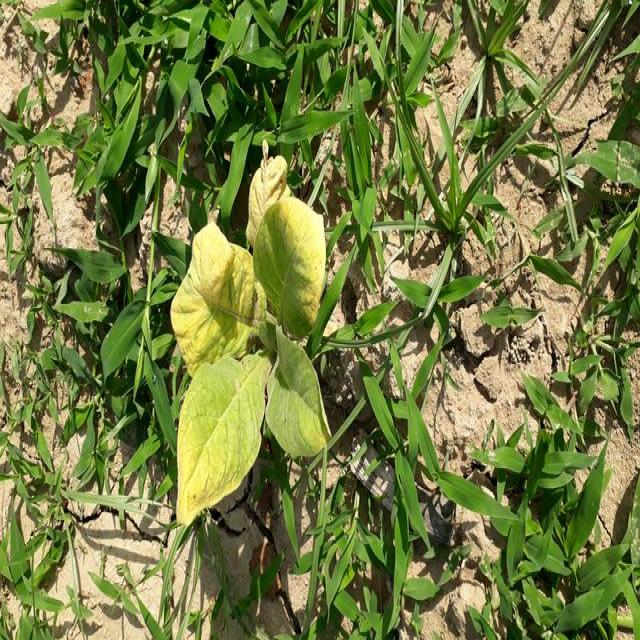crop: (166, 147, 340, 533)
